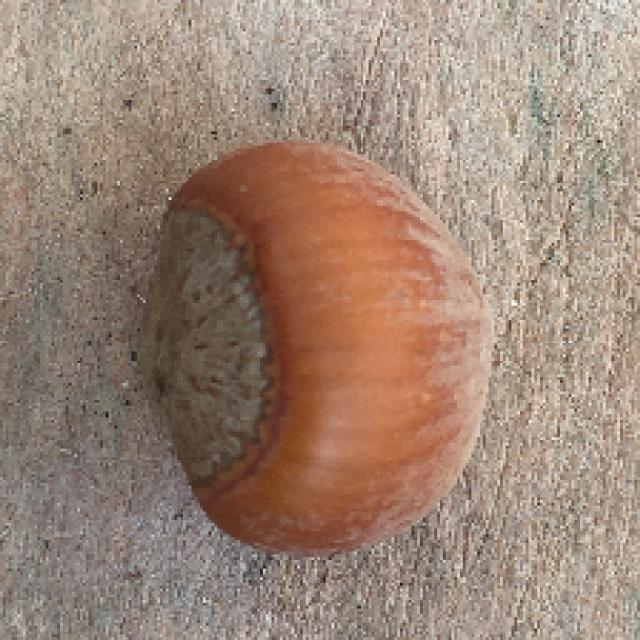qualityHazelnut: (158, 139, 502, 559)
